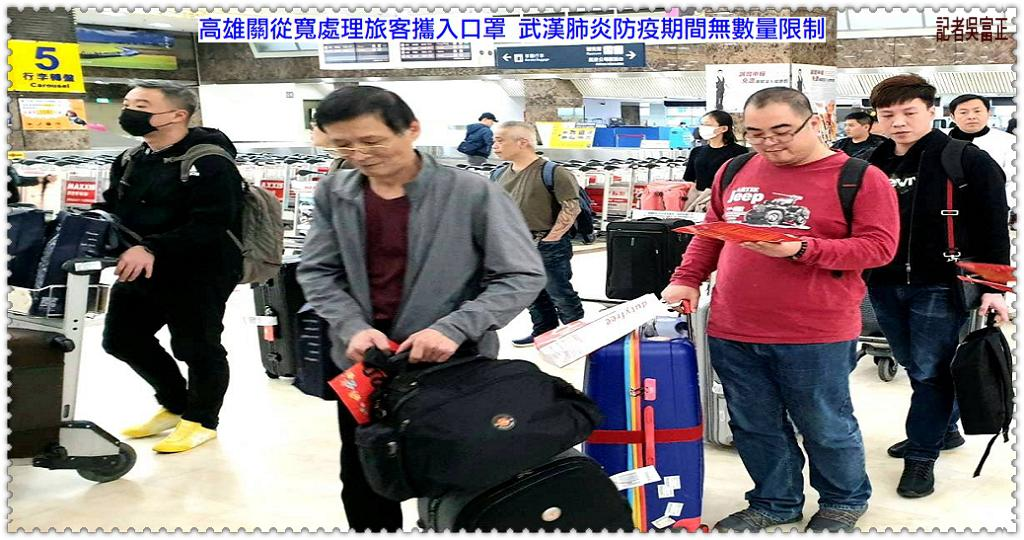mask: (116, 94, 167, 139), (696, 118, 719, 142)
none: (328, 130, 404, 177), (742, 117, 809, 162), (875, 104, 928, 146), (954, 103, 988, 132), (489, 131, 517, 162), (842, 118, 860, 138)
